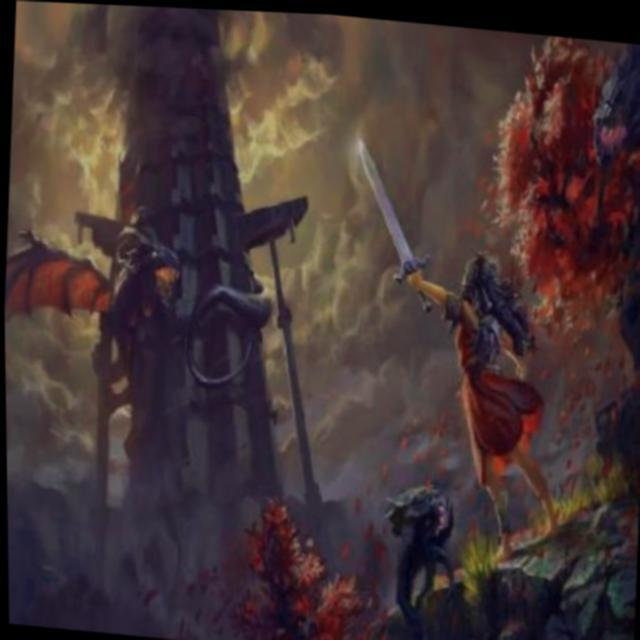weapon: (380, 237, 575, 569), (348, 133, 442, 310)
